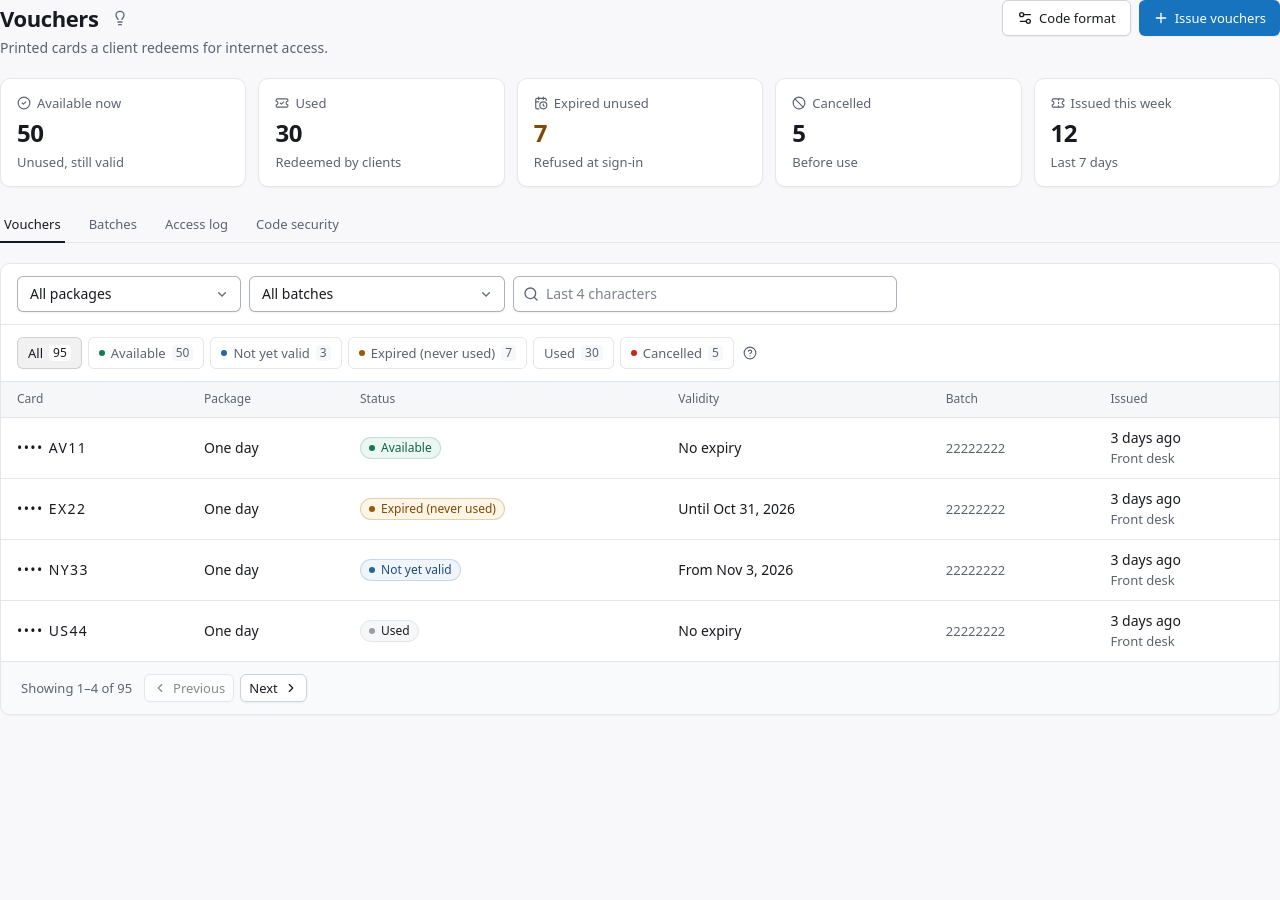
Test: step-up dialogs are real modals › does not offer to cancel an expired or a used card
Click the text "•••• EX22" at (94, 509), box 1,479 -> 188,540
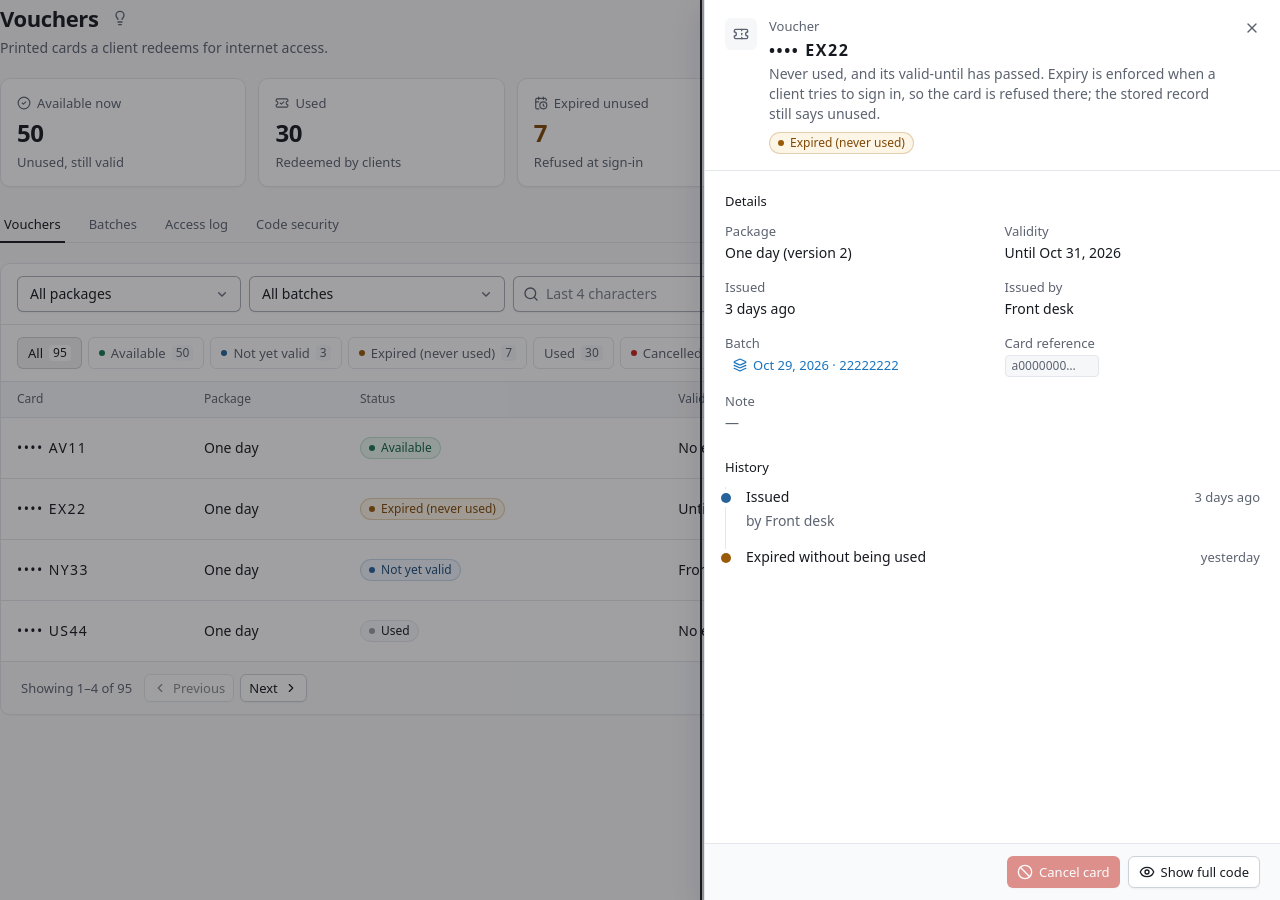
Expected: the button "Cancel card" is disabled, 1007,856 -> 1120,888
// A timestamp tooltip must not swallow the sheet's first Escape.
Press Escape
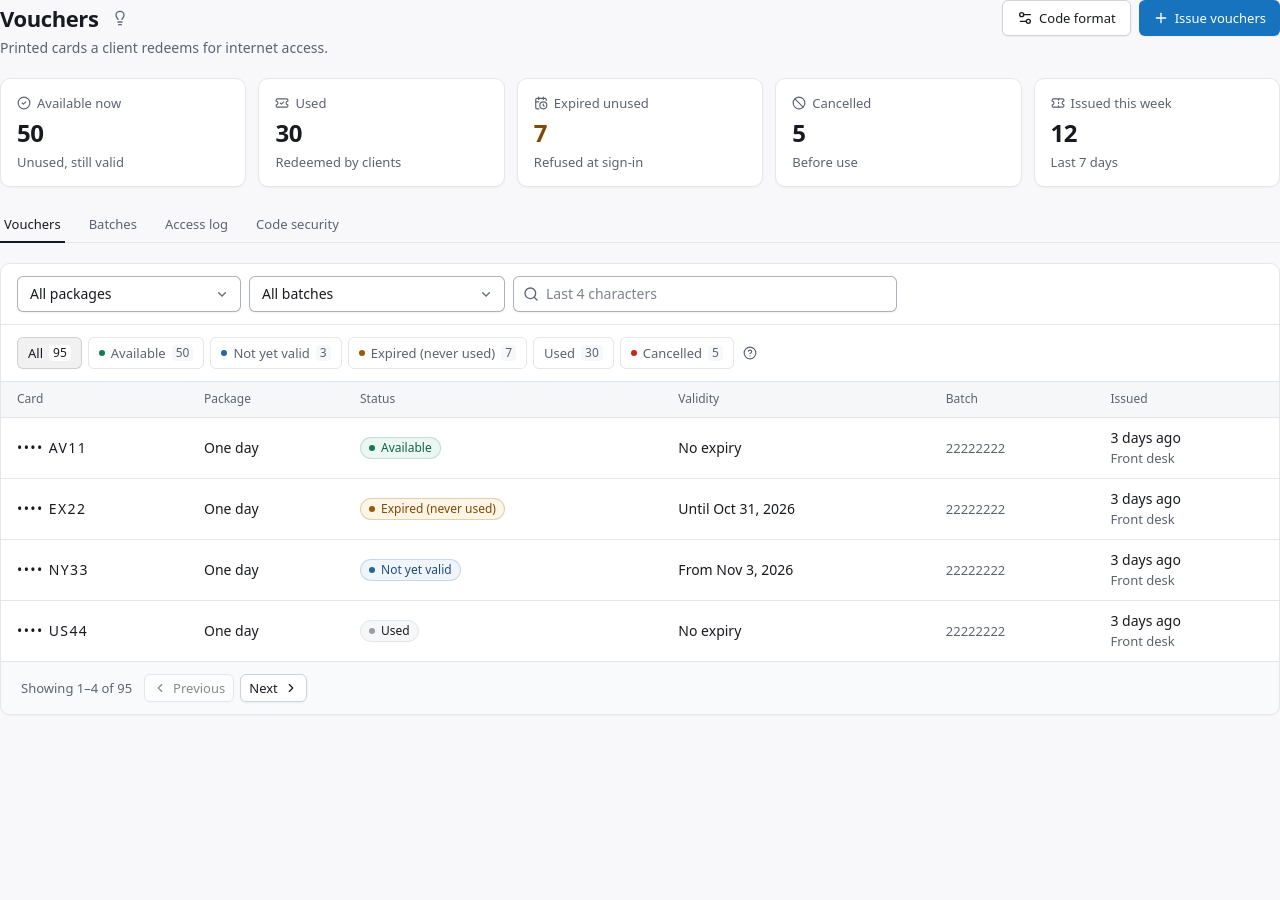
Click the text "•••• US44" at (53, 630), box 1,601 -> 188,661
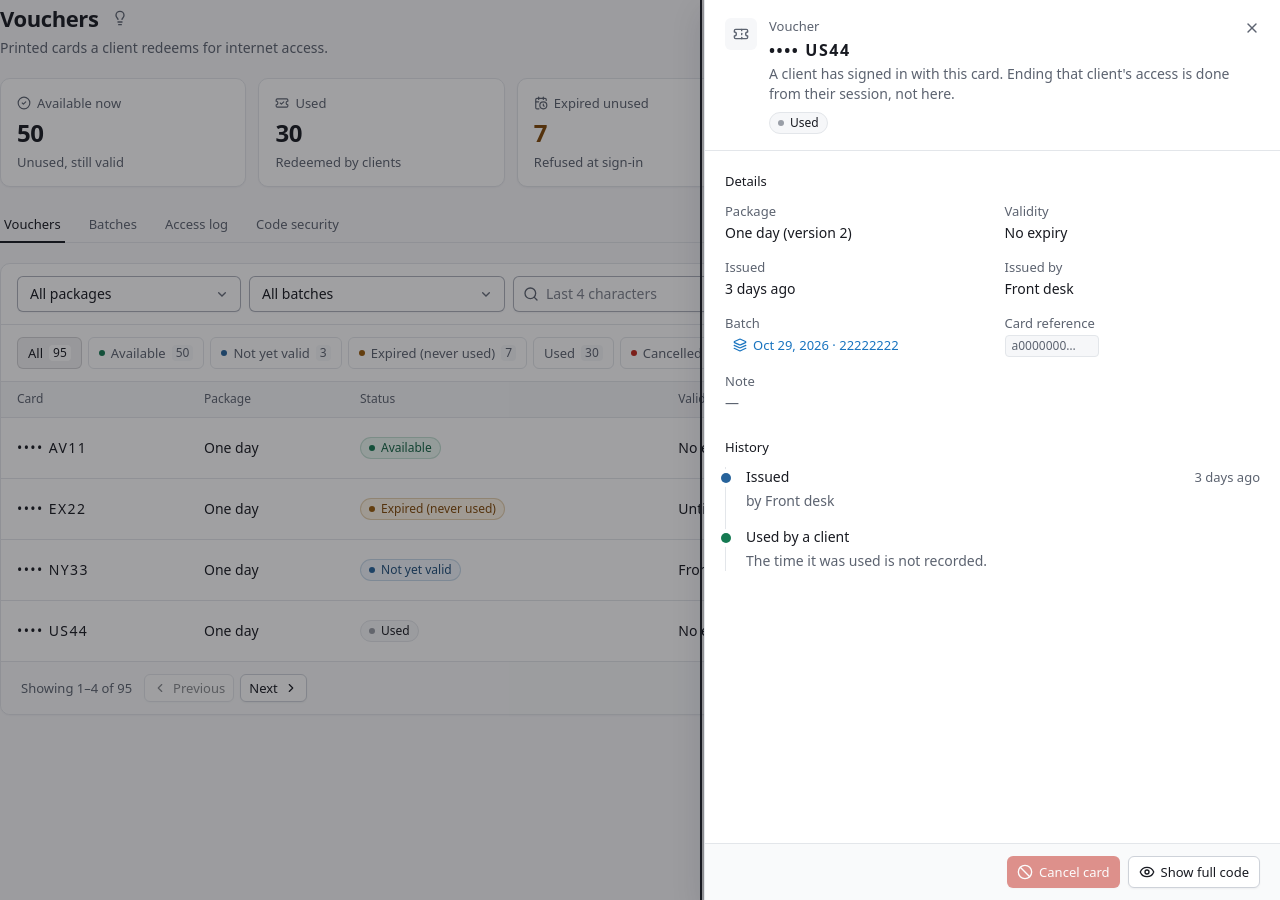
Expected: the button "Cancel card" is disabled, 1007,856 -> 1120,888
